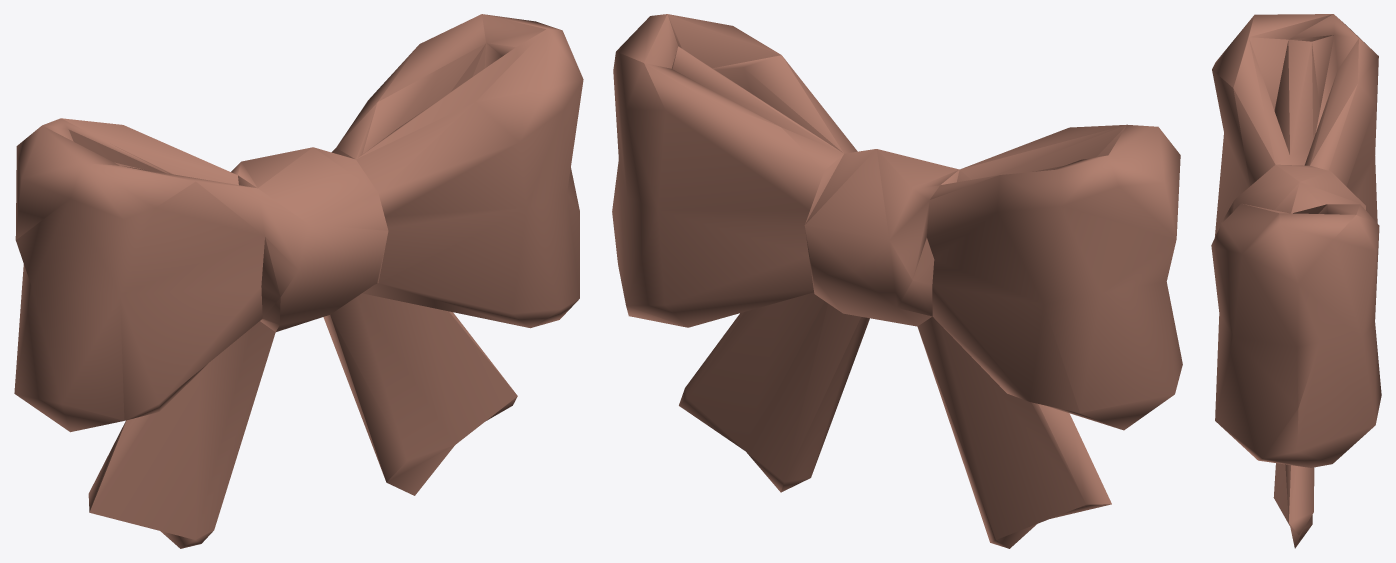
The model's file is bow_01.medium.glb.
The picture shows the model from 3 angles, left to right: view 1: azimuth 30°, elevation 25°; view 2: azimuth 150°, elevation 25°; view 3: azimuth 270°, elevation 25°; orthographic projection. The views are drawn at different scales.
Bounding box in the file's own units: 1.72 × 1.29 × 0.5132.
